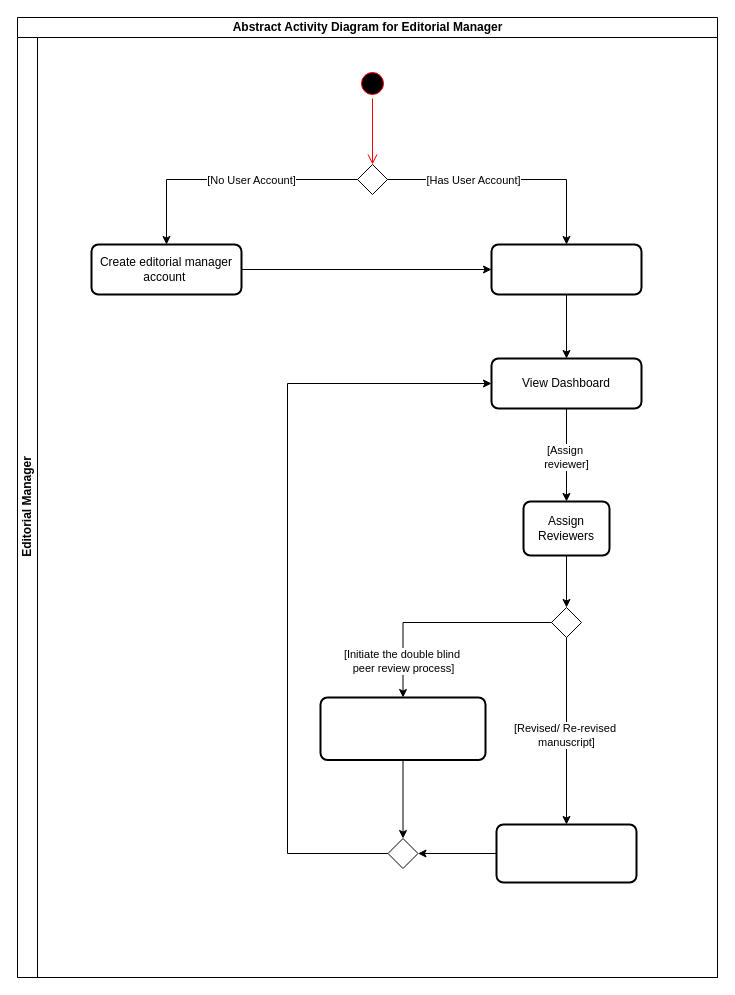
Image size: 735x995. Some labels were removed from this diagram. The shapes that lost their labels are listed below. From the top down, each one's centre as x and y in pixels, then its label:
At (x=566, y=269): "Login via using the Credentials".
At (x=402, y=728): "Share the Manuscript and Review Forms with the reviewer".
At (x=566, y=853): "Send the revised manuscript and related documents to the reviewer".
